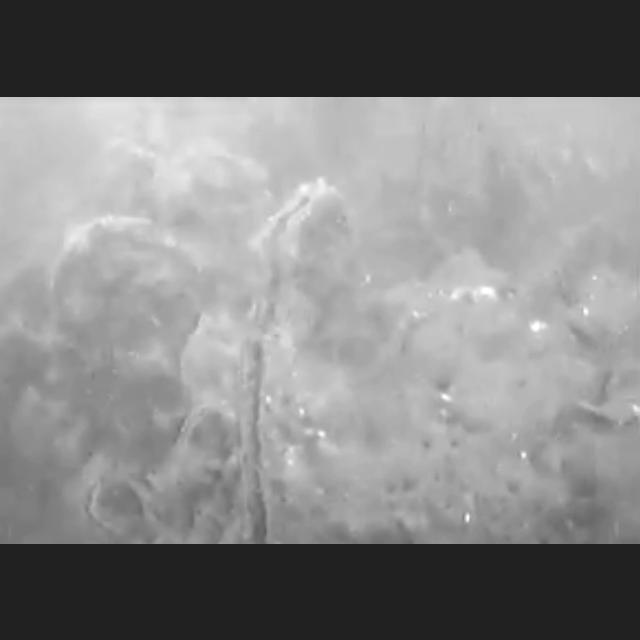Oyster-Closed: (43, 217, 207, 425)
Oyster-Open: (244, 180, 354, 322), (231, 323, 297, 543), (83, 462, 177, 536), (168, 398, 240, 487)
